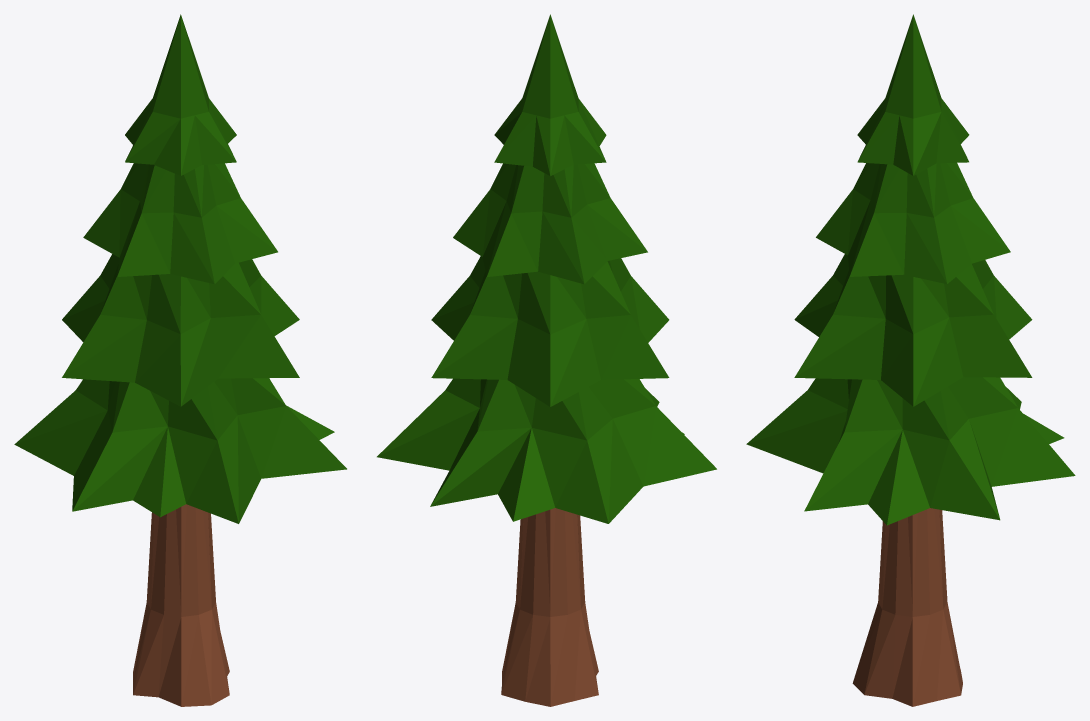
The model's file is Tree C.FBX.
3 renders of one model, left to right at view 1: azimuth 30°, elevation 25°; view 2: azimuth 150°, elevation 25°; view 3: azimuth 270°, elevation 25°, orthographic.
Visible parts, largest first — view 1: Cylinder003; view 2: Cylinder003; view 3: Cylinder003.
Part boxes in pixels (x1,y1,x2,y2): Cylinder003: (14, 14, 346, 706); Cylinder003: (377, 14, 716, 706); Cylinder003: (746, 14, 1075, 706).
Size of the model in its own units: 3457 by 7926 by 3537.
